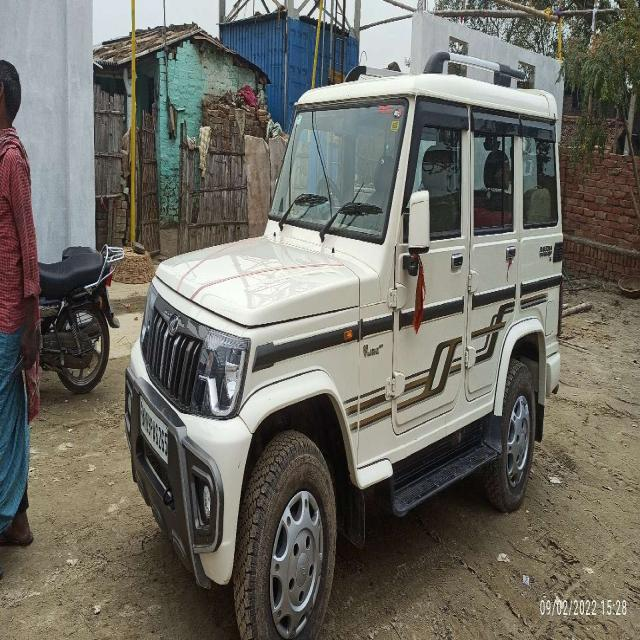light_vehicle: (131, 98, 560, 579)
